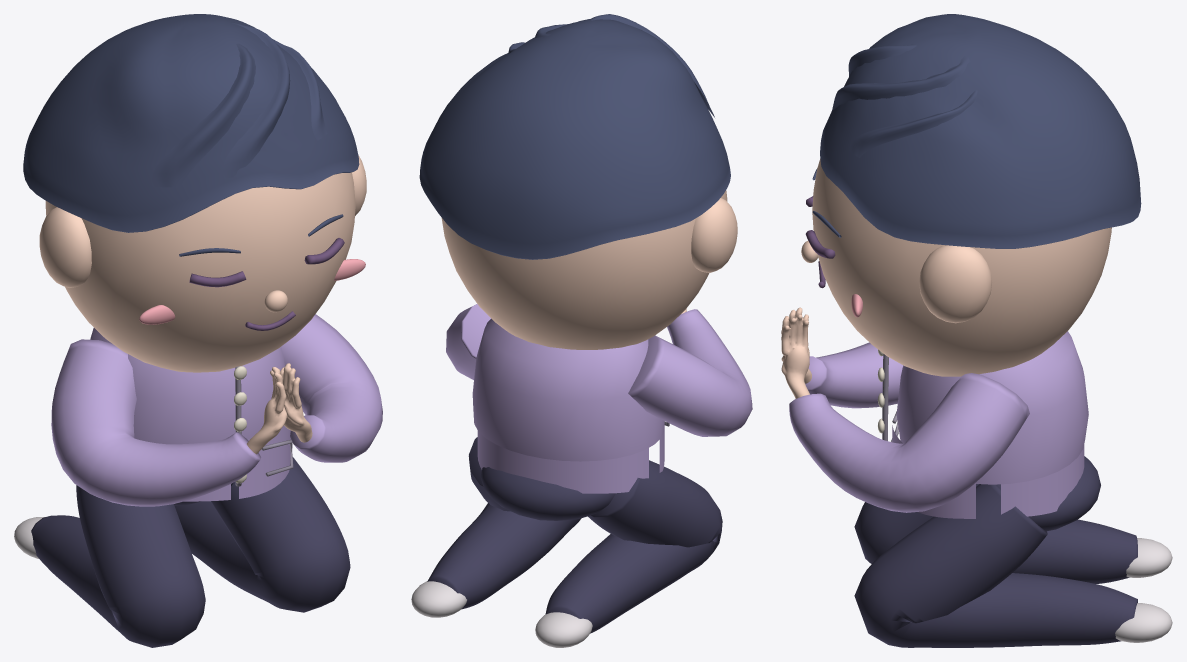
Rendered from meditator_male_kneel_prayer_sidepart73_p07b.glb.
3 views of the same model, side by side, from view 1: azimuth 30°, elevation 25°; view 2: azimuth 150°, elevation 25°; view 3: azimuth 270°, elevation 25° (orthographic). The views are drawn at different scales.
Visible parts, largest first — view 1: hair_male_sidepart73_p07b_object, skin_rose_cream_UpperBodyBreath_object, ao_ba_ba_top_UpperBodyBreath_object, ao_ba_ba_pants_SeatRoot_object, eyes_mauve_UpperBodyBreath_object, skin_blush_UpperBodyBreath_object, sandal_trim_SeatRoot_object, ao_ba_ba_placket_UpperBodyBreath_object; view 2: hair_male_sidepart73_p07b_object, ao_ba_ba_top_UpperBodyBreath_object, ao_ba_ba_pants_SeatRoot_object, skin_rose_cream_UpperBodyBreath_object, sandal_trim_SeatRoot_object; view 3: hair_male_sidepart73_p07b_object, ao_ba_ba_top_UpperBodyBreath_object, ao_ba_ba_pants_SeatRoot_object, skin_rose_cream_UpperBodyBreath_object, sandal_trim_SeatRoot_object, ao_ba_ba_placket_UpperBodyBreath_object, eyes_mauve_UpperBodyBreath_object.
Boxes of the visible parts, x1,y1,x2,y2 form: hair_male_sidepart73_p07b_object: (23,14,359,256); skin_rose_cream_UpperBodyBreath_object: (39,155,366,454); ao_ba_ba_top_UpperBodyBreath_object: (51,314,382,506); ao_ba_ba_pants_SeatRoot_object: (31,457,350,647); eyes_mauve_UpperBodyBreath_object: (189,238,344,330); skin_blush_UpperBodyBreath_object: (139,259,365,324); sandal_trim_SeatRoot_object: (14,517,44,558); ao_ba_ba_placket_UpperBodyBreath_object: (235,366,293,486); hair_male_sidepart73_p07b_object: (419,14,730,259); ao_ba_ba_top_UpperBodyBreath_object: (446,304,752,493); ao_ba_ba_pants_SeatRoot_object: (427,437,722,633); skin_rose_cream_UpperBodyBreath_object: (441,190,737,349); sandal_trim_SeatRoot_object: (411,581,592,647); hair_male_sidepart73_p07b_object: (812,14,1141,248); ao_ba_ba_top_UpperBodyBreath_object: (789,331,1088,518); ao_ba_ba_pants_SeatRoot_object: (854,456,1137,647); skin_rose_cream_UpperBodyBreath_object: (781,159,1111,398); sandal_trim_SeatRoot_object: (1115,538,1172,642); ao_ba_ba_placket_UpperBodyBreath_object: (882,354,898,442); eyes_mauve_UpperBodyBreath_object: (805,196,835,288).
Size of the model in its own units: 0.672 by 1.19 by 0.7285.
